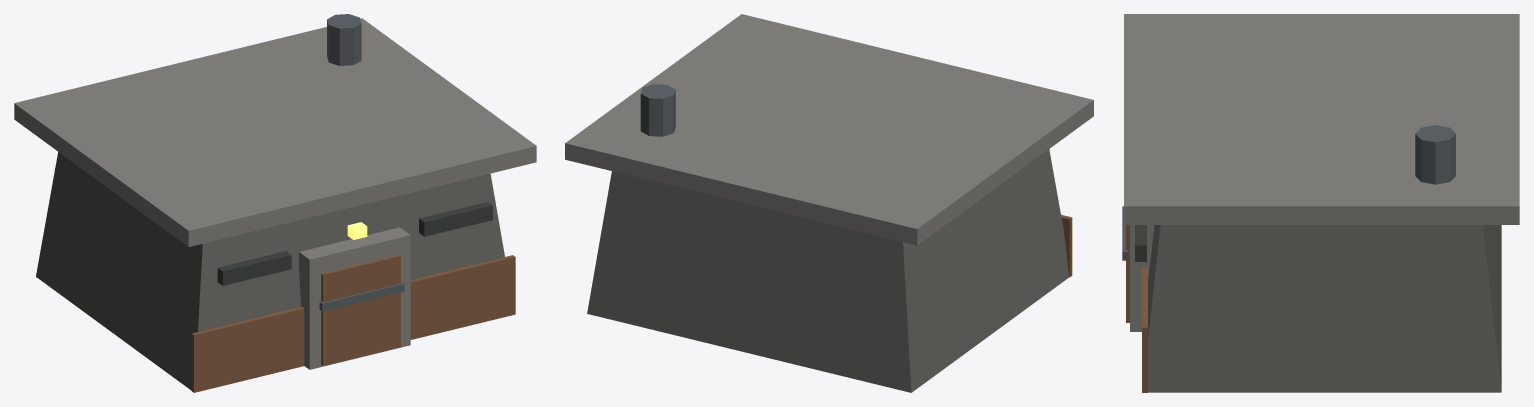
Rendered from bunker.glb.
3 views of the same model, side by side, from view 1: azimuth 30°, elevation 25°; view 2: azimuth 150°, elevation 25°; view 3: azimuth 270°, elevation 25° (orthographic). The views are drawn at different scales.
Parts seen in each view (by area): view 1: lip, mass, stain, door, door_frame, vent, slit0, slit1, door_bar; view 2: lip, mass, vent, stain; view 3: lip, mass, vent, door_frame, stain, slit1, door.
Part boxes in pixels (x1,y1,x2,y2): lip: (14, 18, 536, 246); mass: (36, 152, 504, 389); stain: (191, 255, 515, 392); door: (321, 254, 400, 365); door_frame: (299, 227, 410, 369); vent: (327, 14, 361, 65); slit0: (217, 251, 291, 285); slit1: (419, 202, 492, 236); door_bar: (319, 282, 404, 311); lip: (565, 14, 1093, 245); mass: (587, 149, 1069, 392); vent: (640, 84, 675, 136); stain: (1061, 214, 1072, 277); lip: (1124, 14, 1519, 224); mass: (1148, 225, 1501, 392); vent: (1415, 125, 1455, 184); door_frame: (1130, 225, 1153, 331); stain: (1142, 266, 1147, 392); slit1: (1135, 225, 1146, 261); door: (1126, 225, 1129, 322).
Size of the model in its own units: 7.6 by 4.35 by 6.63.
